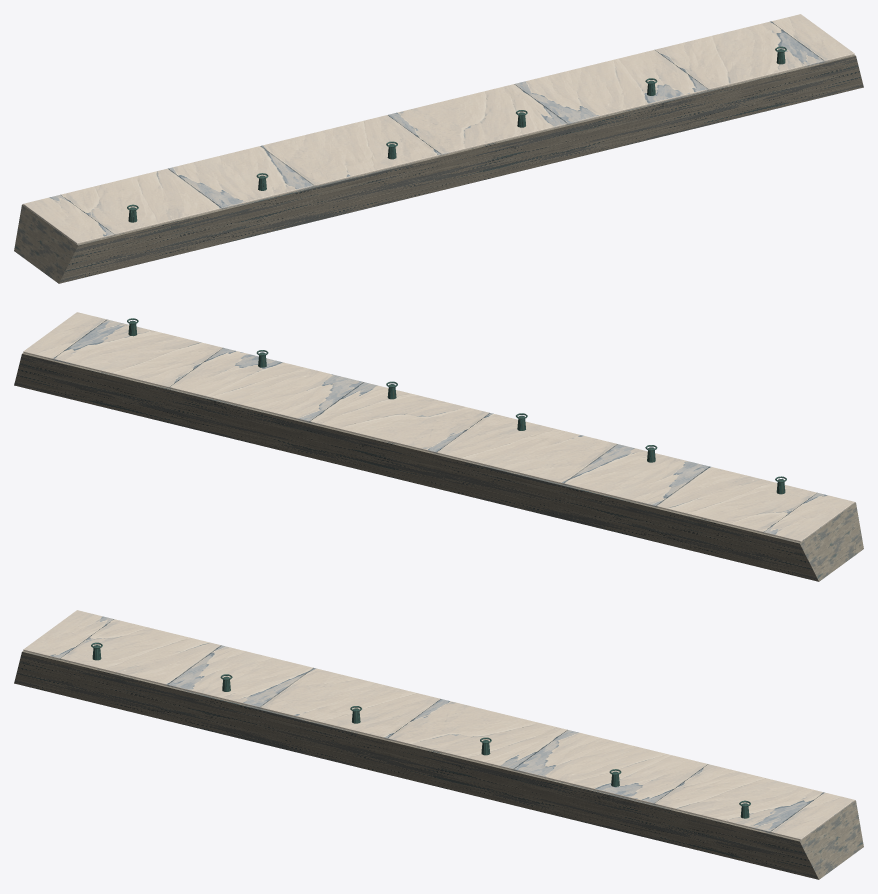
The model's file is breakwater.glb.
3 renders of one model, top to bottom at view 1: azimuth 30°, elevation 25°; view 2: azimuth 150°, elevation 25°; view 3: azimuth 330°, elevation 25°, orthographic.
Visible parts, largest first — view 1: LandingTop, BreakwaterWall; view 2: LandingTop, BreakwaterWall; view 3: LandingTop, BreakwaterWall.
Boxes of the visible parts, x1,y1,x2,y2 form: LandingTop: (23,14,854,244); BreakwaterWall: (14,55,863,283); LandingTop: (23,312,854,542); BreakwaterWall: (14,353,863,581); LandingTop: (23,610,854,840); BreakwaterWall: (14,651,863,879).
Size of what is drawn, in the model's own units: 207 by 13.4 by 25.
4 materials, 4 textured.
